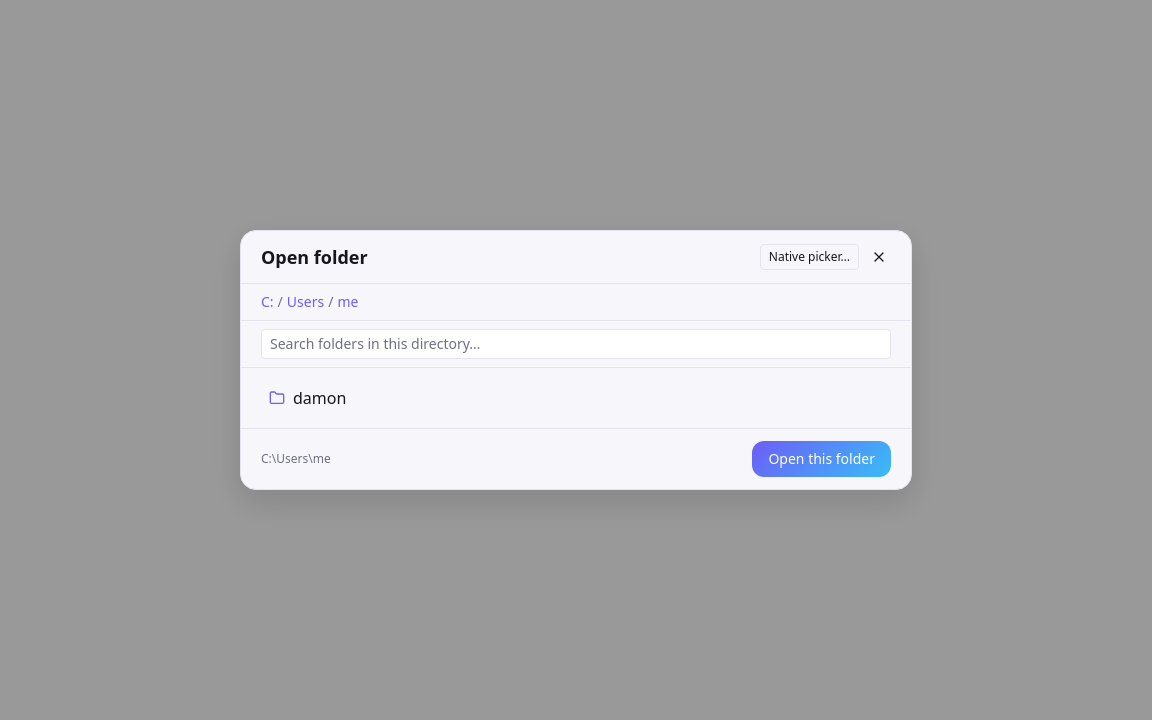
Test: FolderPickerModal › shows a no-match message when the filter excludes everything
The image size is (1152, 720).
expect the text "damon" is shown: met, box [293,386,346,410]
Type "zzz" into the search field labelled "Search folders".
click(576, 344); type("zzz")  # box [261,329,891,359]
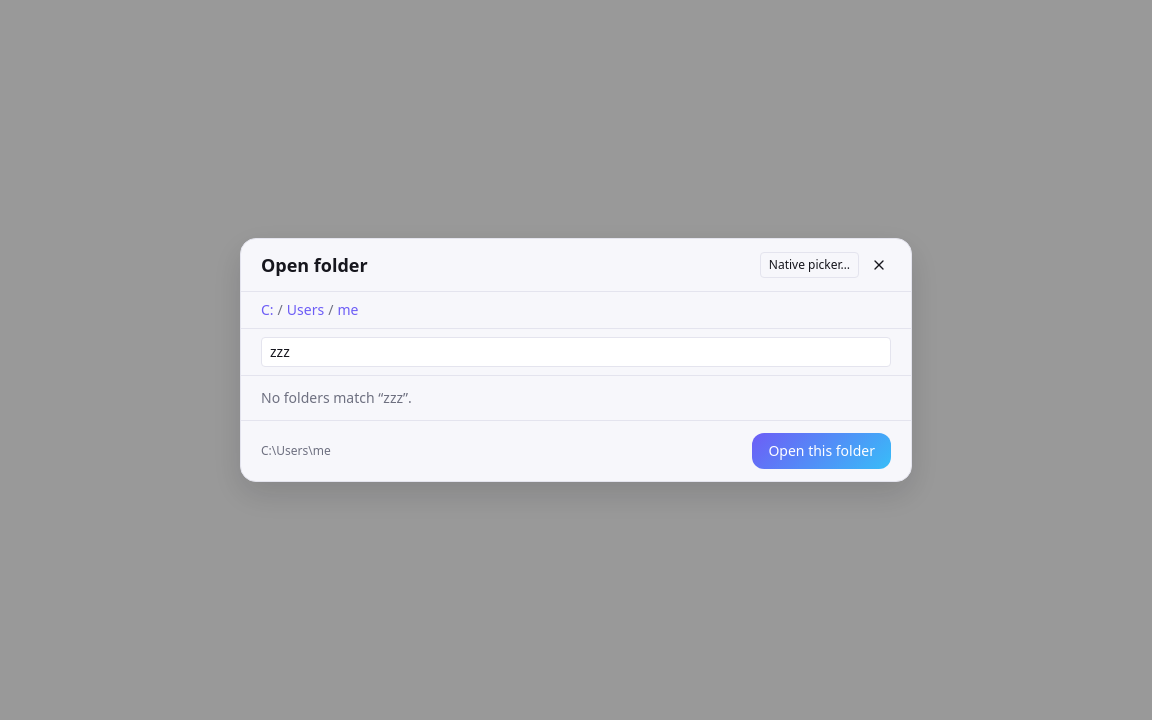
expect the text "No folders match “zzz”." is shown: met, box [261,388,412,407]
